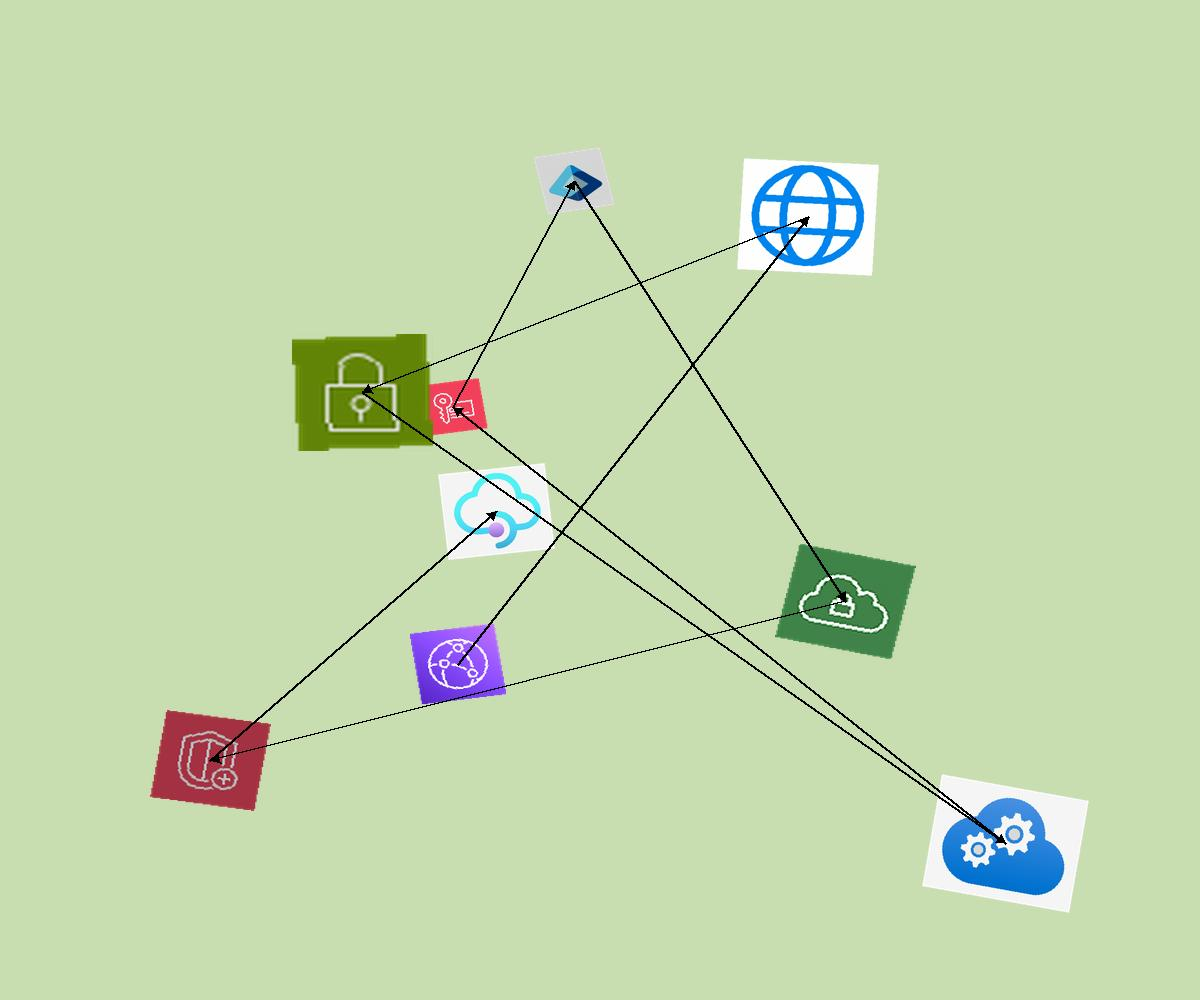AWS-CloudFront: (409, 623, 507, 705)
AWS-Key-Management-Service: (419, 378, 488, 436)
AWS-Private_vpc: (775, 543, 916, 660)
AWS-Public-subnet: (292, 334, 433, 451)
AWS-Shield: (150, 710, 271, 811)
Azure_api_gateway: (438, 463, 555, 560)
Azure_cloud_services: (922, 774, 1089, 913)
Azure_http: (737, 158, 879, 276)
Azure_microsoft_entra: (533, 147, 615, 215)
